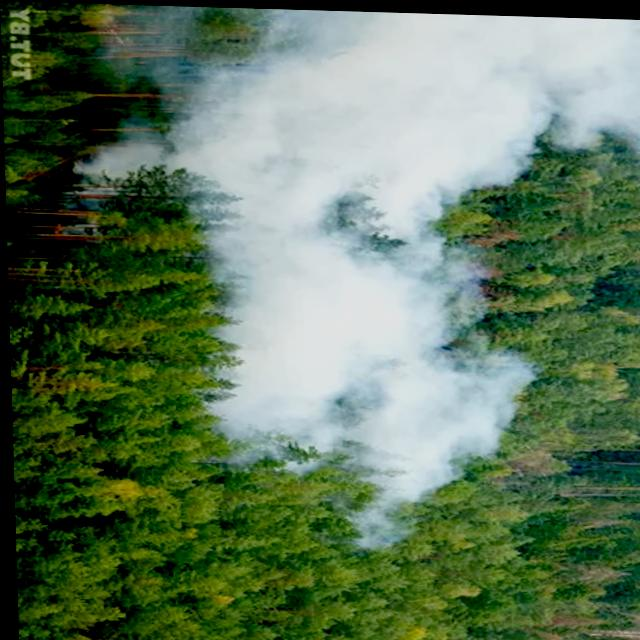no_helmet: (193, 203, 537, 547), (86, 3, 640, 209)
